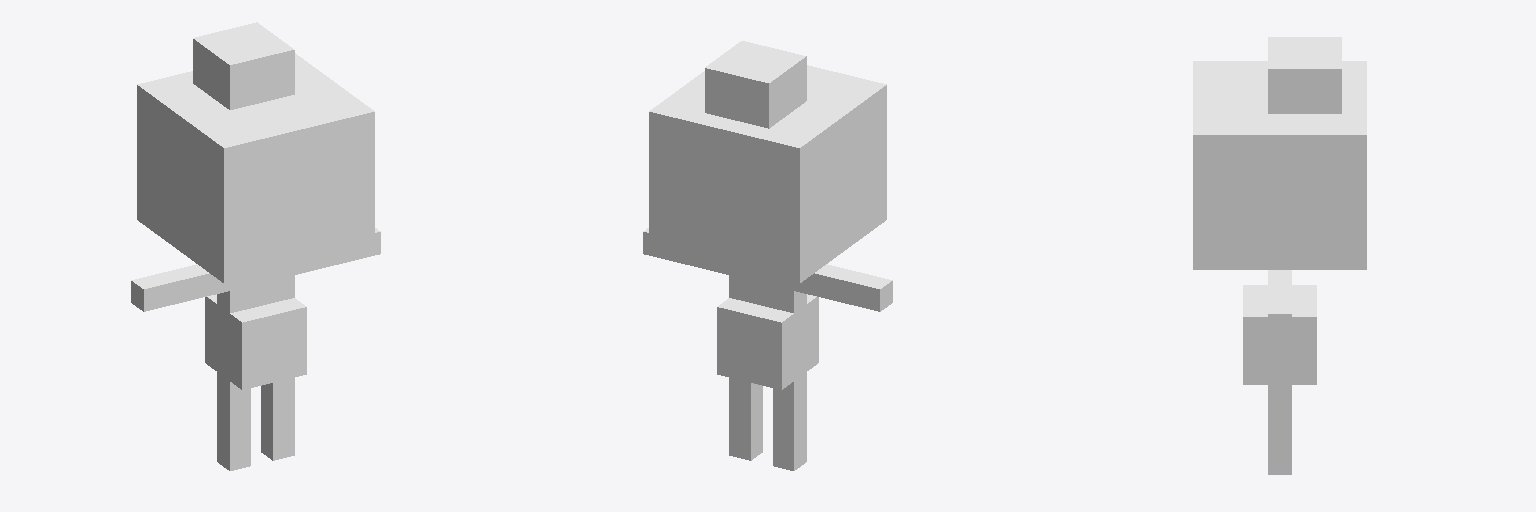
File: BomberMen5.obj
3 views of the same model, side by side, from view 1: azimuth 30°, elevation 25°; view 2: azimuth 150°, elevation 25°; view 3: azimuth 270°, elevation 25° (orthographic).
Parts seen in each view (by area): view 1: object 1; view 2: object 1; view 3: object 1.
Part boxes in pixels (x1,y1,x2,y2): object 1: (131, 22, 380, 470); object 1: (643, 41, 892, 470); object 1: (1193, 37, 1366, 474).
Bounding box in the file's own units: 1.1 × 1.8 × 0.7.